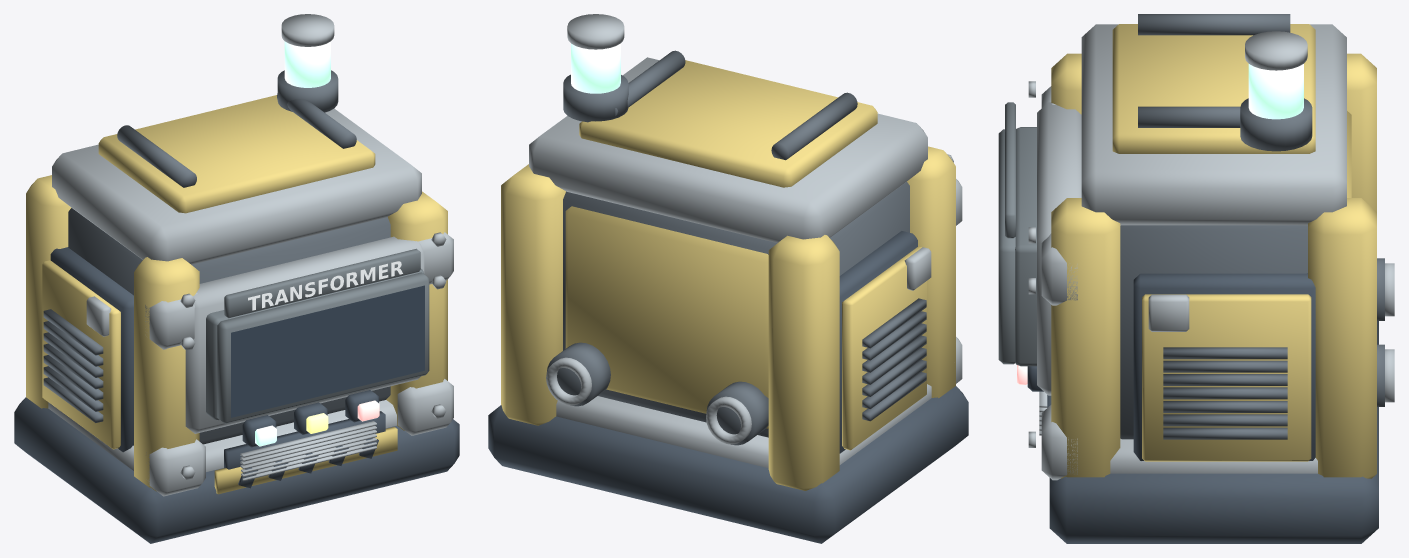
Rendered from transformer_enhanced.glb.
3 renders of one model, left to right at view 1: azimuth 30°, elevation 25°; view 2: azimuth 150°, elevation 25°; view 3: azimuth 270°, elevation 25°, orthographic. The views are drawn at different scales.
Visible parts, largest first — view 1: TopCap_steel_legacy_10, Base_black_legacy_0, Frame_yellow_legacy_4, RoofPanel_yellow_legacy_11, LiveViewSurface_glass, Housing_dark_legacy_2, CornerGuard_steel_legacy_5, DisplayFrame_steel_legacy_13, ServiceDoor_yellow_legacy_7, LiveViewSurfaceFrame_frame, Detail_steel_legacy_24, SideVents_dark_legacy_8 (+13 smaller); view 2: Frame_yellow_legacy_4, Armor_yellow_legacy_3, Base_black_legacy_0, TopCap_steel_legacy_10, RoofPanel_yellow_legacy_11, Housing_dark_legacy_2, ServiceDoor_yellow_legacy_7, Skirt_steel_legacy_1, SideVents_dark_legacy_8, RearPort_dark_legacy_29, LiftRail_dark_legacy_12, SidePanel_black_legacy_6 (+6 smaller); view 3: Frame_yellow_legacy_4, TopCap_steel_legacy_10, Base_black_legacy_0, ServiceDoor_yellow_legacy_7, RoofPanel_yellow_legacy_11, Housing_dark_legacy_2, SideVents_dark_legacy_8, DisplayFrame_steel_legacy_13, SidePanel_black_legacy_6, LiftRail_dark_legacy_12, ScreenMount_frame, CornerGuard_steel_legacy_5 (+10 smaller).
Boxes of the visible parts, bbox=[...] form: TopCap_steel_legacy_10: bbox=[52, 108, 421, 264]; Base_black_legacy_0: bbox=[14, 397, 459, 543]; Frame_yellow_legacy_4: bbox=[26, 175, 447, 491]; RoofPanel_yellow_legacy_11: bbox=[98, 95, 375, 213]; LiveViewSurface_glass: bbox=[231, 285, 424, 417]; Housing_dark_legacy_2: bbox=[68, 208, 390, 444]; CornerGuard_steel_legacy_5: bbox=[145, 232, 453, 496]; DisplayFrame_steel_legacy_13: bbox=[185, 236, 424, 433]; ServiceDoor_yellow_legacy_7: bbox=[42, 260, 120, 449]; LiveViewSurfaceFrame_frame: bbox=[217, 272, 429, 423]; Detail_steel_legacy_24: bbox=[180, 232, 446, 480]; SideVents_dark_legacy_8: bbox=[43, 309, 103, 422]; Frame_yellow_legacy_4: bbox=[501, 146, 955, 490]; Armor_yellow_legacy_3: bbox=[565, 206, 768, 428]; Base_black_legacy_0: bbox=[488, 386, 968, 543]; TopCap_steel_legacy_10: bbox=[529, 57, 927, 242]; RoofPanel_yellow_legacy_11: bbox=[579, 60, 877, 187]; Housing_dark_legacy_2: bbox=[563, 182, 909, 437]; ServiceDoor_yellow_legacy_7: bbox=[842, 246, 926, 450]; Skirt_steel_legacy_1: bbox=[556, 384, 931, 468]; SideVents_dark_legacy_8: bbox=[862, 298, 926, 421]; RearPort_dark_legacy_29: bbox=[547, 342, 768, 445]; LiftRail_dark_legacy_12: bbox=[615, 50, 857, 160]; SidePanel_black_legacy_6: bbox=[839, 231, 917, 453]; Frame_yellow_legacy_4: bbox=[1051, 53, 1376, 478]; TopCap_steel_legacy_10: bbox=[1081, 24, 1346, 225]; Base_black_legacy_0: bbox=[1049, 321, 1378, 543]; ServiceDoor_yellow_legacy_7: bbox=[1142, 294, 1311, 461]; RoofPanel_yellow_legacy_11: bbox=[1112, 24, 1315, 153]; Housing_dark_legacy_2: bbox=[1120, 225, 1307, 439]; SideVents_dark_legacy_8: bbox=[1163, 347, 1287, 439]; DisplayFrame_steel_legacy_13: bbox=[1037, 102, 1081, 395]; SidePanel_black_legacy_6: bbox=[1133, 273, 1315, 460]; LiftRail_dark_legacy_12: bbox=[1138, 14, 1290, 127]; ScreenMount_frame: bbox=[1015, 127, 1036, 366]; CornerGuard_steel_legacy_5: bbox=[1041, 86, 1077, 480].
Size of the model in its own units: 1.43 by 1.65 by 1.27.
